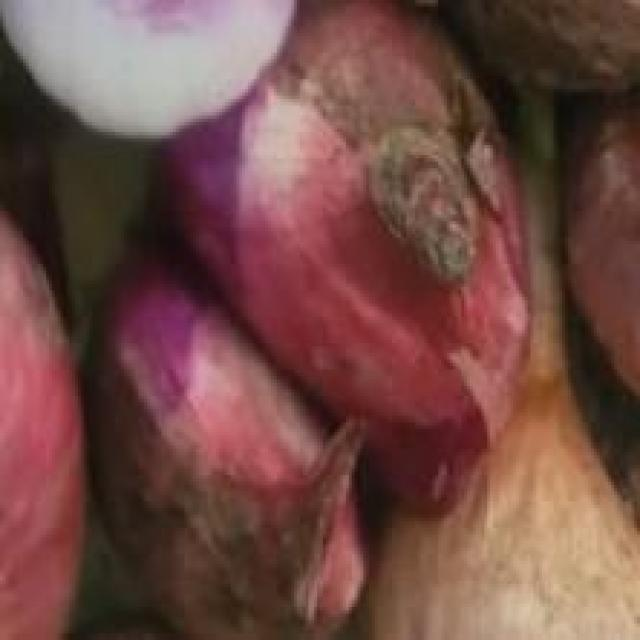Onion: (88, 6, 561, 634)
